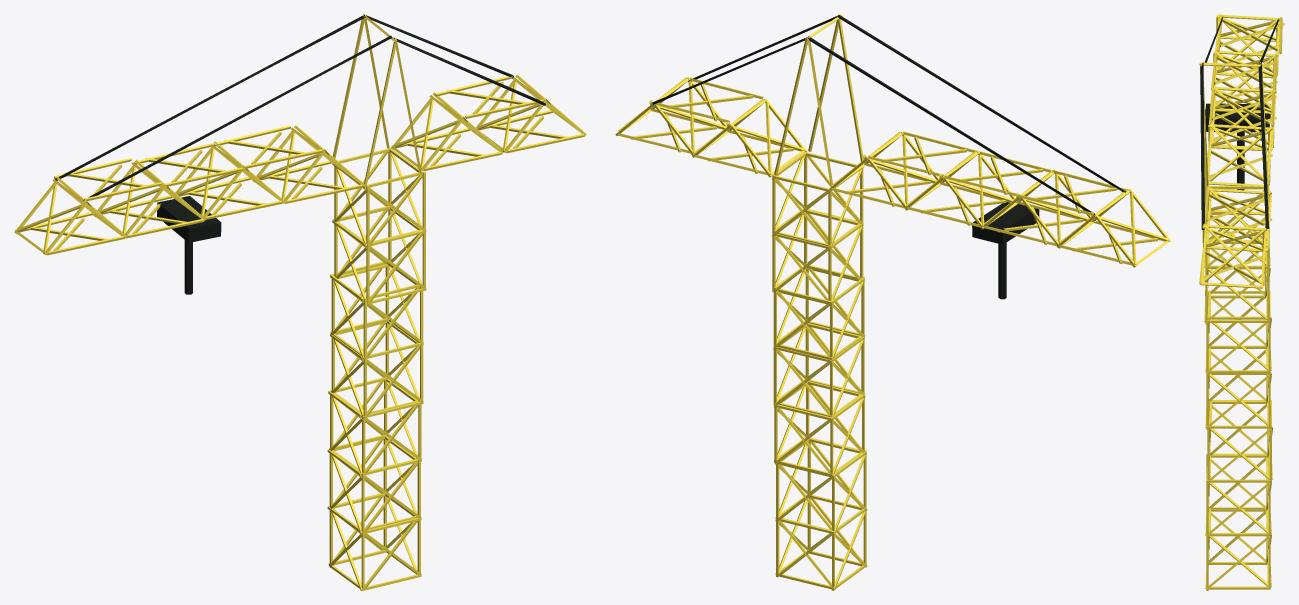
File: construction.lod.glb
3 views of the same model, side by side, from view 1: azimuth 30°, elevation 25°; view 2: azimuth 150°, elevation 25°; view 3: azimuth 270°, elevation 25° (orthographic). The views are drawn at different scales.
Parts seen in each view (by area): view 1: group1664925870; view 2: group1664925870; view 3: group1664925870.
Part boxes in pixels (<box>): group1664925870: <box>14,14,586,590</box>; group1664925870: <box>615,14,1170,590</box>; group1664925870: <box>1199,14,1284,590</box>.
Size of the model in its own units: 5.15 by 5.04 by 0.7561.
1 material, 1 textured.
